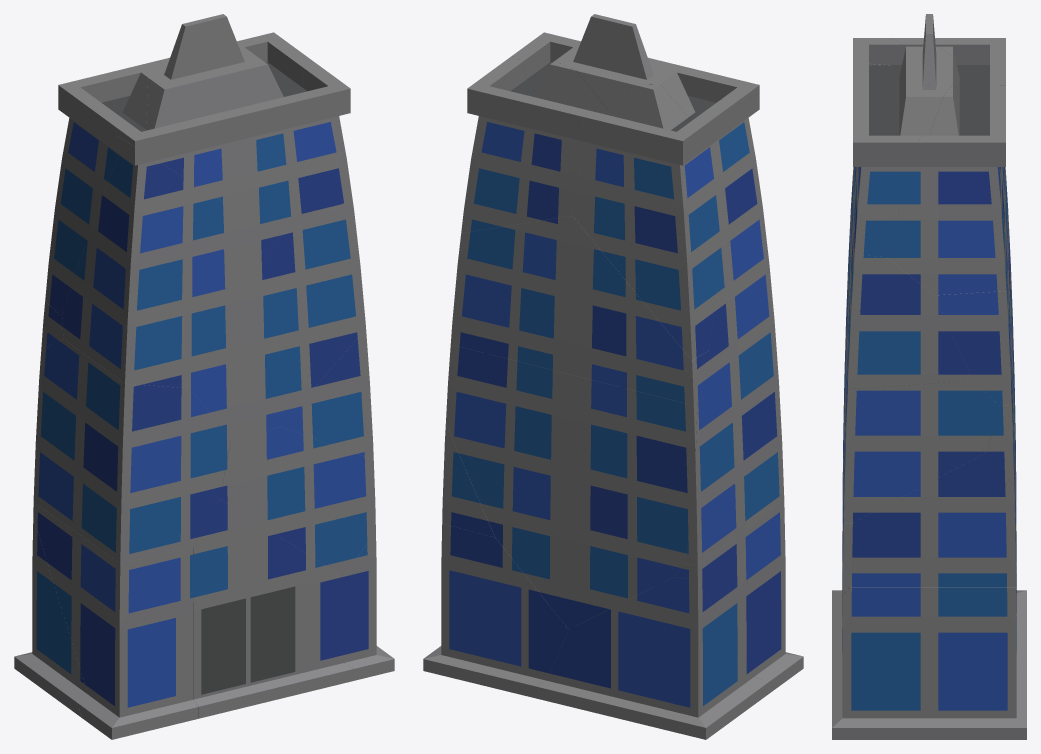
The model's file is HighHouse 3.2 Fractured.fbx.
3 views of the same model, side by side, from view 1: azimuth 30°, elevation 25°; view 2: azimuth 150°, elevation 25°; view 3: azimuth 270°, elevation 25° (orthographic).
Visible parts, largest first — view 1: HighHouse_3_02_Breaking_cell.009, HighHouse_3_02_Breaking_cell, HighHouse_3_02_Breaking_cell.008, HighHouse_3_02_Breaking_cell.006, HighHouse_3_02_Breaking_cell.001, HighHouse_3_02_Breaking_cell.013, HighHouse_3_02_Breaking_cell.011, HighHouse_3_02_Breaking_cell.004, HighHouse_3_02_Breaking_cell.012, HighHouse_3_02_Breaking_cell.003, HighHouse_3_02_Breaking_cell.010, HighHouse_3_02_Breaking_cell.014 (+1 smaller); view 2: HighHouse_3_02_Breaking_cell.002, HighHouse_3_02_Breaking_cell.004, HighHouse_3_02_Breaking_cell.007, HighHouse_3_02_Breaking_cell.003, HighHouse_3_02_Breaking_cell.014, HighHouse_3_02_Breaking_cell, HighHouse_3_02_Breaking_cell.010, HighHouse_3_02_Breaking_cell.001, HighHouse_3_02_Breaking_cell.009, HighHouse_3_02_Breaking_cell.008, HighHouse_3_02_Breaking_cell.005; view 3: HighHouse_3_02_Breaking_cell.010, HighHouse_3_02_Breaking_cell.014, HighHouse_3_02_Breaking_cell.005, HighHouse_3_02_Breaking_cell.012, HighHouse_3_02_Breaking_cell.008, HighHouse_3_02_Breaking_cell.013, HighHouse_3_02_Breaking_cell.007, HighHouse_3_02_Breaking_cell.004, HighHouse_3_02_Breaking_cell.002, HighHouse_3_02_Breaking_cell.006, HighHouse_3_02_Breaking_cell.003, HighHouse_3_02_Breaking_cell.011 (+3 smaller).
Boxes of the visible parts, x1,y1,x2,y2 form: HighHouse_3_02_Breaking_cell.009: (62,136,278,388); HighHouse_3_02_Breaking_cell: (33,339,230,563); HighHouse_3_02_Breaking_cell.008: (115,14,352,236); HighHouse_3_02_Breaking_cell.006: (193,499,354,718); HighHouse_3_02_Breaking_cell.001: (33,502,198,739); HighHouse_3_02_Breaking_cell.013: (190,199,365,439); HighHouse_3_02_Breaking_cell.011: (220,427,375,576); HighHouse_3_02_Breaking_cell.004: (45,61,163,315); HighHouse_3_02_Breaking_cell.012: (281,329,373,459); HighHouse_3_02_Breaking_cell.003: (14,517,88,717); HighHouse_3_02_Breaking_cell.010: (343,531,394,680); HighHouse_3_02_Breaking_cell.014: (157,32,317,90); HighHouse_3_02_Breaking_cell.002: (446,344,697,629); HighHouse_3_02_Breaking_cell.004: (572,84,741,360); HighHouse_3_02_Breaking_cell.007: (450,215,712,405); HighHouse_3_02_Breaking_cell.003: (532,577,773,739); HighHouse_3_02_Breaking_cell.014: (461,56,607,233); HighHouse_3_02_Breaking_cell: (686,324,784,565); HighHouse_3_02_Breaking_cell.010: (423,523,568,697); HighHouse_3_02_Breaking_cell.001: (674,500,803,689); HighHouse_3_02_Breaking_cell.009: (709,91,774,368); HighHouse_3_02_Breaking_cell.008: (512,14,759,117); HighHouse_3_02_Breaking_cell.005: (442,424,495,537); HighHouse_3_02_Breaking_cell.010: (832,566,1026,739); HighHouse_3_02_Breaking_cell.014: (886,84,1006,295); HighHouse_3_02_Breaking_cell.005: (850,452,1015,586); HighHouse_3_02_Breaking_cell.012: (844,381,999,523); HighHouse_3_02_Breaking_cell.008: (853,14,957,256); HighHouse_3_02_Breaking_cell.013: (845,239,972,418); HighHouse_3_02_Breaking_cell.007: (934,195,1011,405); HighHouse_3_02_Breaking_cell.004: (892,38,1009,244); HighHouse_3_02_Breaking_cell.002: (986,290,1016,596); HighHouse_3_02_Breaking_cell.006: (832,452,843,708); HighHouse_3_02_Breaking_cell.003: (1016,472,1026,672); HighHouse_3_02_Breaking_cell.011: (842,403,851,595).
Size of the model in its own units: 583 by 1279 by 349.
